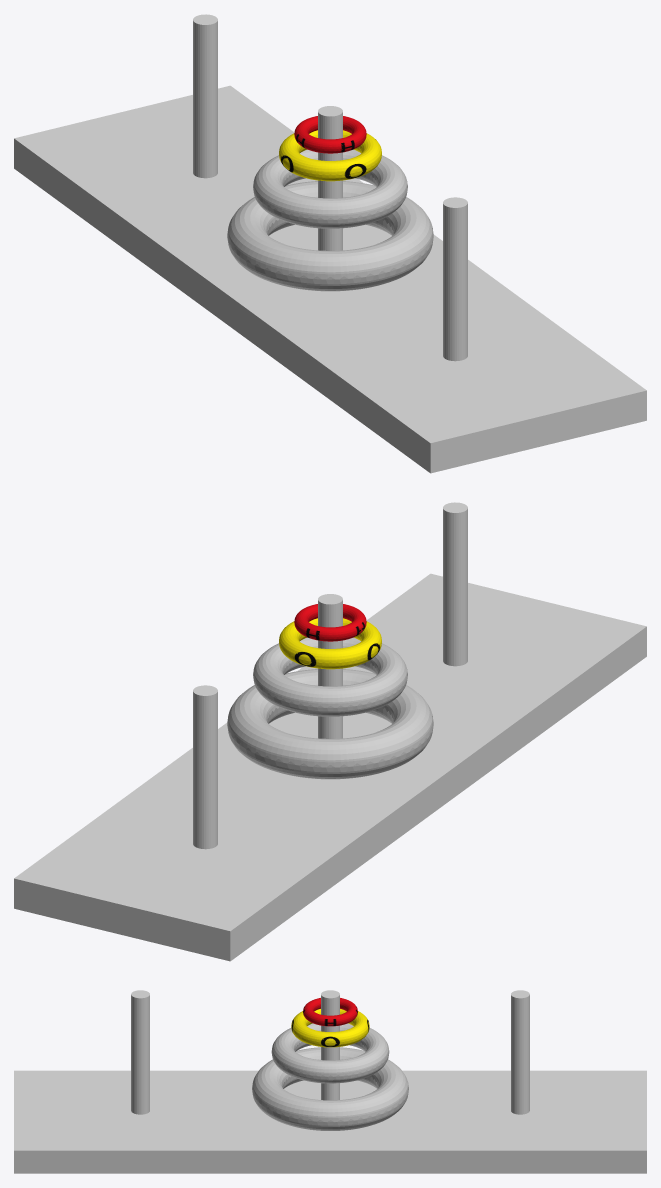
Rendered from Hanoi tower.fbx.
3 views of the same model, one above another, from view 1: azimuth 30°, elevation 25°; view 2: azimuth 150°, elevation 25°; view 3: azimuth 270°, elevation 25° (orthographic). The views are drawn at different scales.
Parts seen in each view (by area): view 1: Cube, Torus-E, Torus-P, Cylinder.2, Cylinder.002, Torus-O, Cylinder.1, Torus-H; view 2: Cube, Torus-E, Torus-P, Cylinder.002, Cylinder.2, Torus-O, Cylinder.1, Torus-H; view 3: Cube, Torus-E, Torus-P, Cylinder.2, Cylinder.002, Torus-O, Cylinder.1, Torus-H.
Boxes of the visible parts, x1,y1,x2,y2 form: Cube: (14,85,646,473); Torus-E: (227,181,433,291); Torus-P: (253,149,407,228); Cylinder.2: (193,14,217,178); Cylinder.002: (443,197,467,361); Torus-O: (279,130,381,181); Cylinder.1: (318,106,342,250); Torus-H: (294,116,366,153); Cube: (14,573,646,961); Torus-E: (227,669,433,779); Torus-P: (253,637,407,716); Cylinder.002: (443,502,467,666); Cylinder.2: (193,685,217,849); Torus-O: (279,618,381,669); Cylinder.1: (318,594,342,738); Torus-H: (294,604,366,641); Cube: (14,1070,646,1173); Torus-E: (252,1047,408,1130); Torus-P: (271,1023,389,1083); Cylinder.2: (511,990,529,1114); Cylinder.002: (131,990,149,1114); Torus-O: (291,1009,369,1047); Cylinder.1: (321,990,339,1100); Torus-H: (303,998,357,1026).
Size of the model in its own units: 300 by 243 by 1000.
